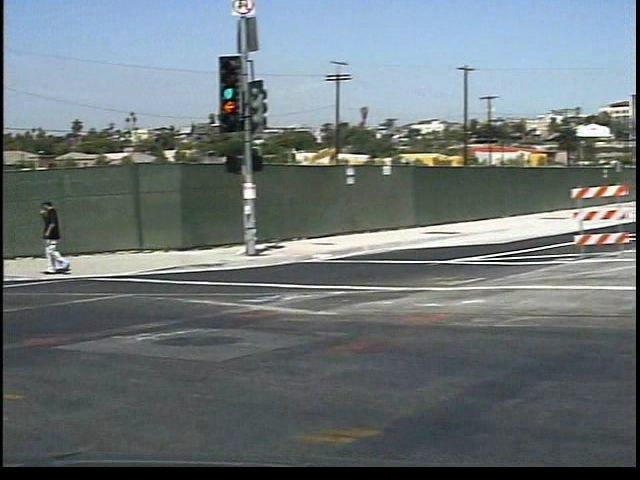person: (27, 193, 66, 284)
